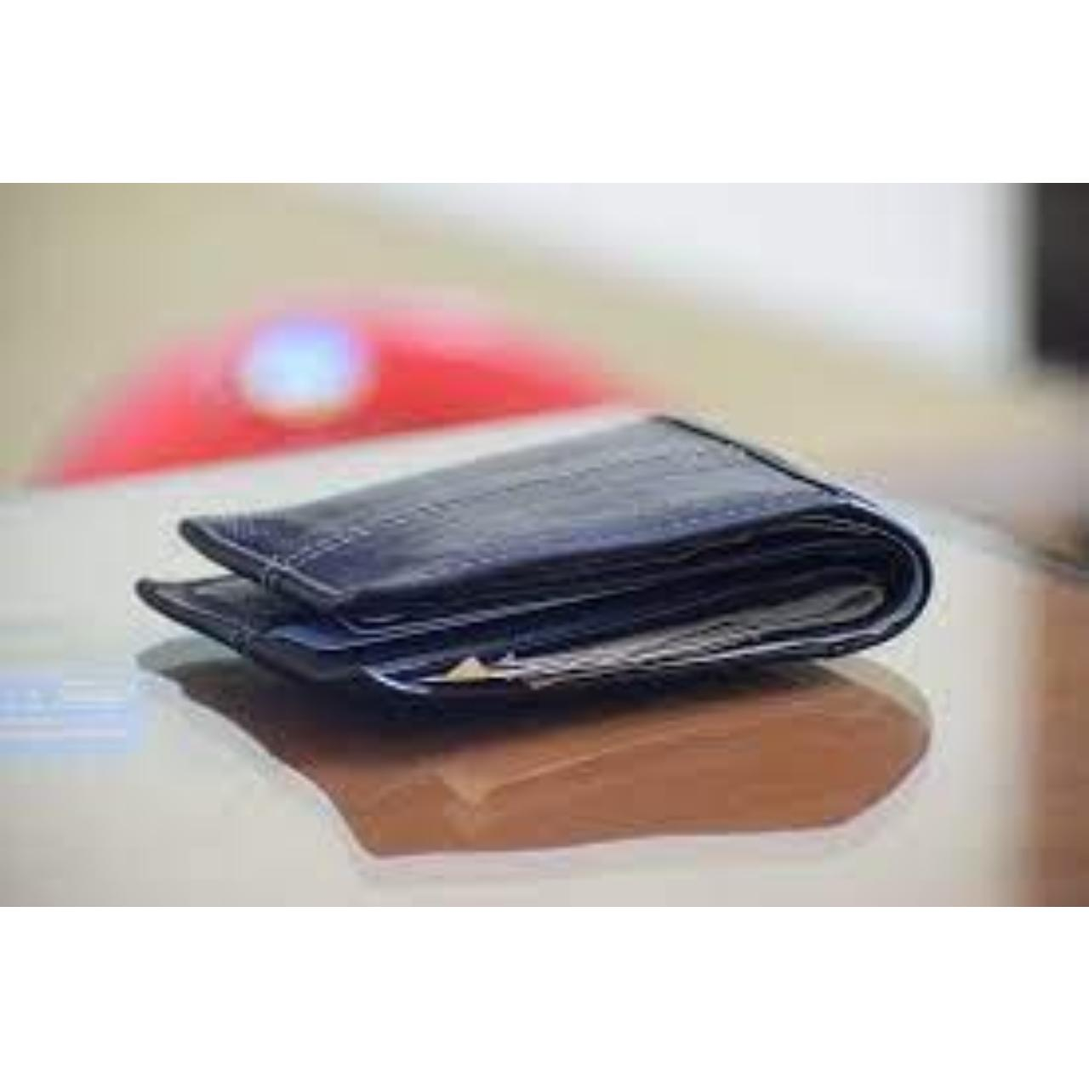wallet: (113, 391, 988, 746)
